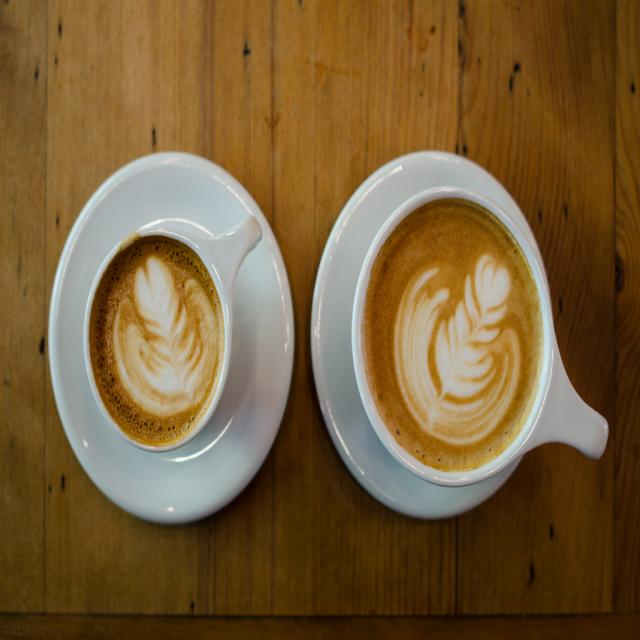latte: (351, 187, 553, 485), (84, 228, 231, 452)
